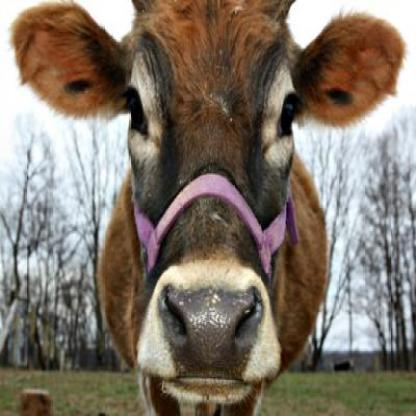lower: (189, 383, 235, 393)
mouth: (140, 276, 281, 405)
upper: (204, 325, 219, 341)
